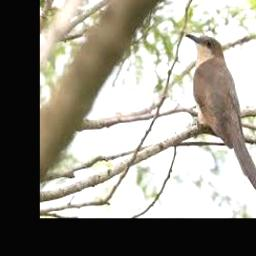Cuckoo: (186, 34, 256, 193)
